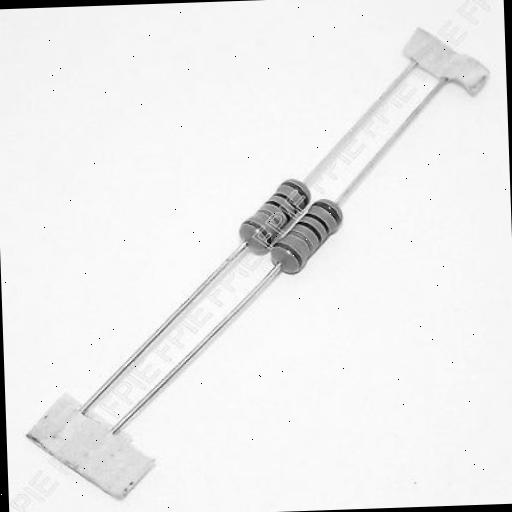RESISTOR: (188, 154, 400, 305), (259, 183, 370, 292)
